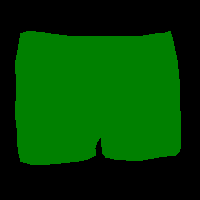mutande: (15, 30, 181, 165)
